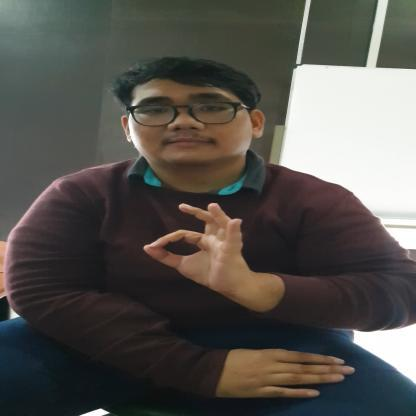O: (136, 202, 255, 292)
